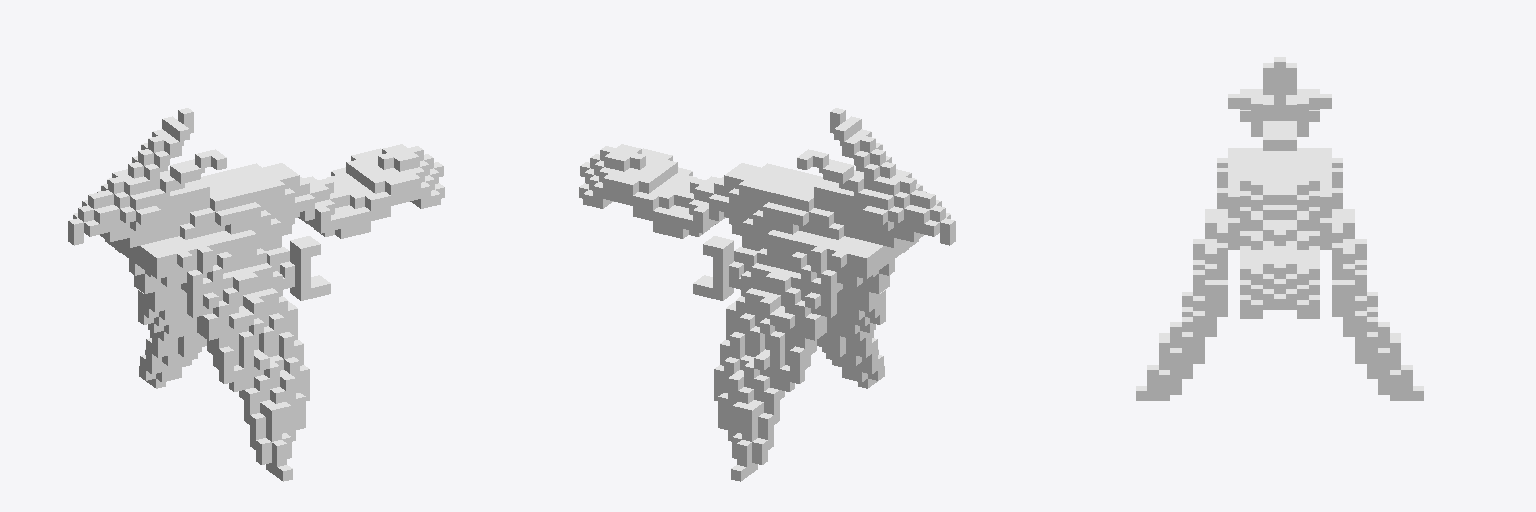
The model's file is 3DPhoenix2.obj.
3 views of the same model, side by side, from view 1: azimuth 30°, elevation 25°; view 2: azimuth 150°, elevation 25°; view 3: azimuth 270°, elevation 25° (orthographic).
Parts seen in each view (by area): view 1: Phoenix-1; view 2: Phoenix-1; view 3: Phoenix-1.
Boxes of the visible parts, <box> form: Phoenix-1: <box>68,108,444,481</box>; Phoenix-1: <box>579,108,955,481</box>; Phoenix-1: <box>1136,57,1423,400</box>.
Size of the model in its own units: 3.7 by 3.1 by 2.5.